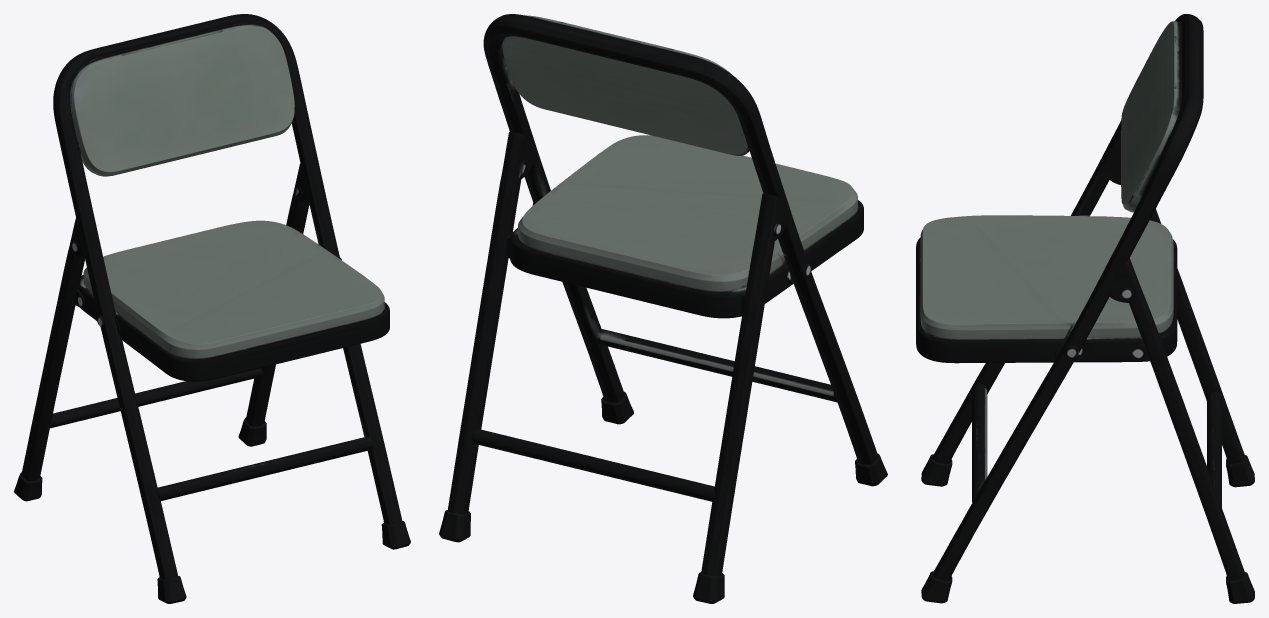
File: folding_chair__hunyuan.glb
3 views of the same model, side by side, from view 1: azimuth 30°, elevation 25°; view 2: azimuth 150°, elevation 25°; view 3: azimuth 270°, elevation 25° (orthographic). The views are drawn at different scales.
Parts seen in each view (by area): view 1: material; view 2: material; view 3: material.
Boxes of the visible parts, x1,y1,x2,y2 form: material: [14, 14, 410, 603]; material: [439, 14, 887, 603]; material: [916, 14, 1254, 603].
Size of the model in its own units: 0.5258 by 0.9295 by 0.5891.
1 material, 1 textured.
